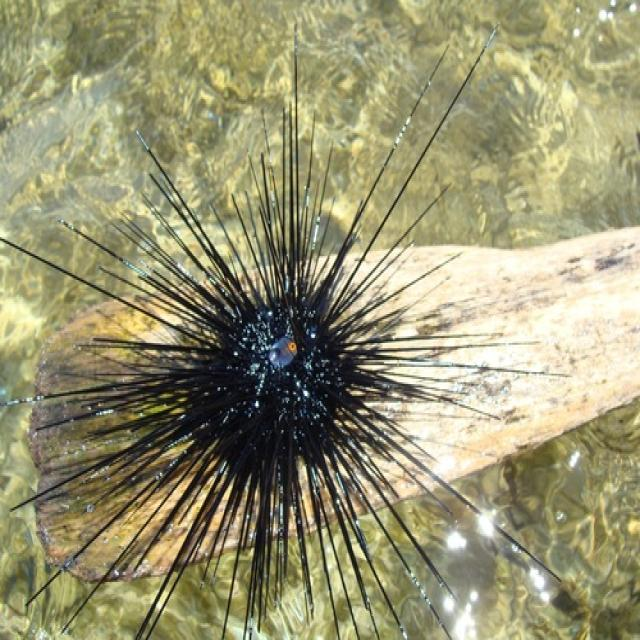Urchin: (4, 24, 563, 640)
